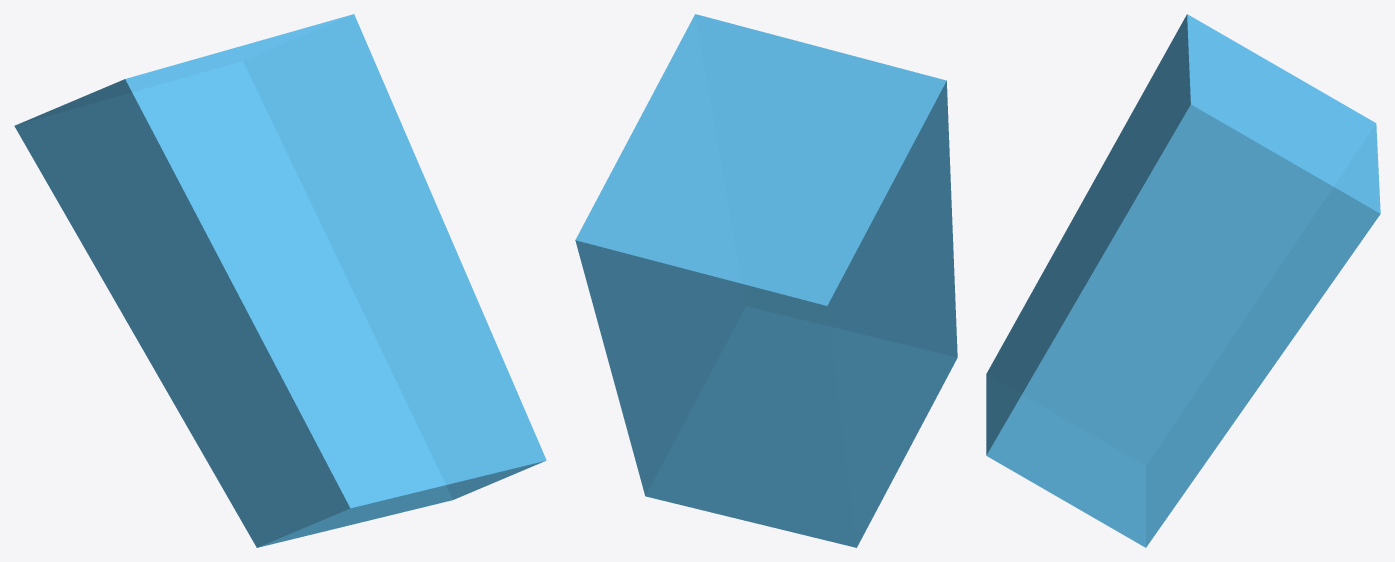
The model's file is Event_420604493_HBrechit_5.fbx.
The picture shows the model from 3 angles, left to right: view 1: azimuth 30°, elevation 25°; view 2: azimuth 150°, elevation 25°; view 3: azimuth 270°, elevation 25°; orthographic projection. The views are drawn at different scales.
Visible parts, largest first — view 1: Model; view 2: Model; view 3: Model.
Part boxes in pixels (<box>): Model: <box>14,14,546,547</box>; Model: <box>575,14,957,547</box>; Model: <box>986,14,1380,547</box>.
Bounding box in the file's own units: 0.6352 × 0.9677 × 0.8368.
